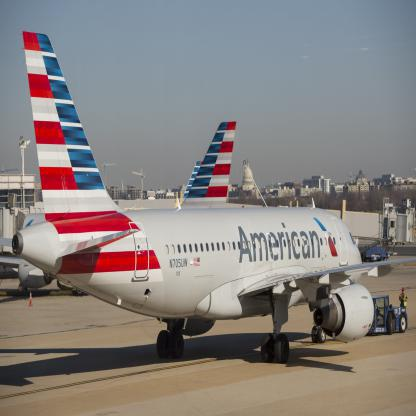CIV_Plane: (6, 25, 410, 367)
